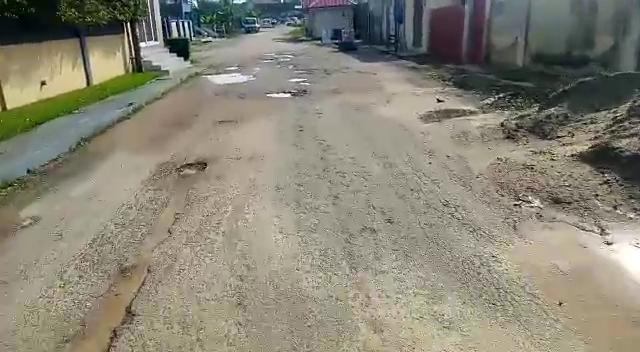pothole: (204, 69, 254, 84), (177, 161, 208, 176), (265, 89, 300, 98)
